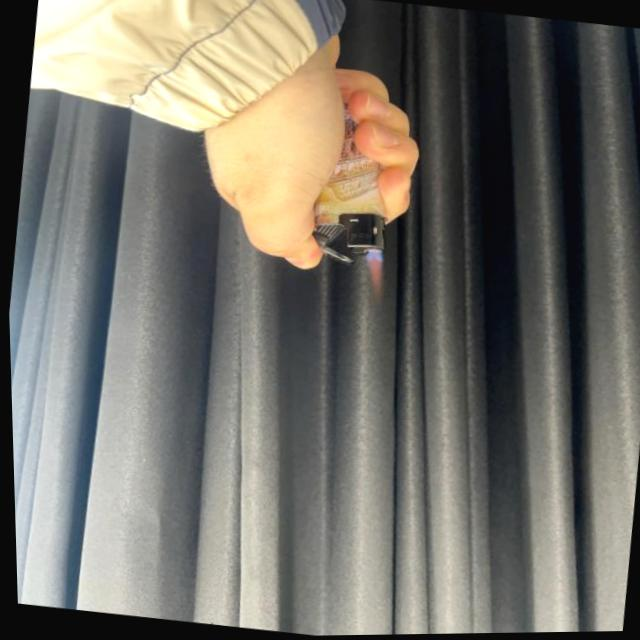helmet: (355, 248, 384, 296)
